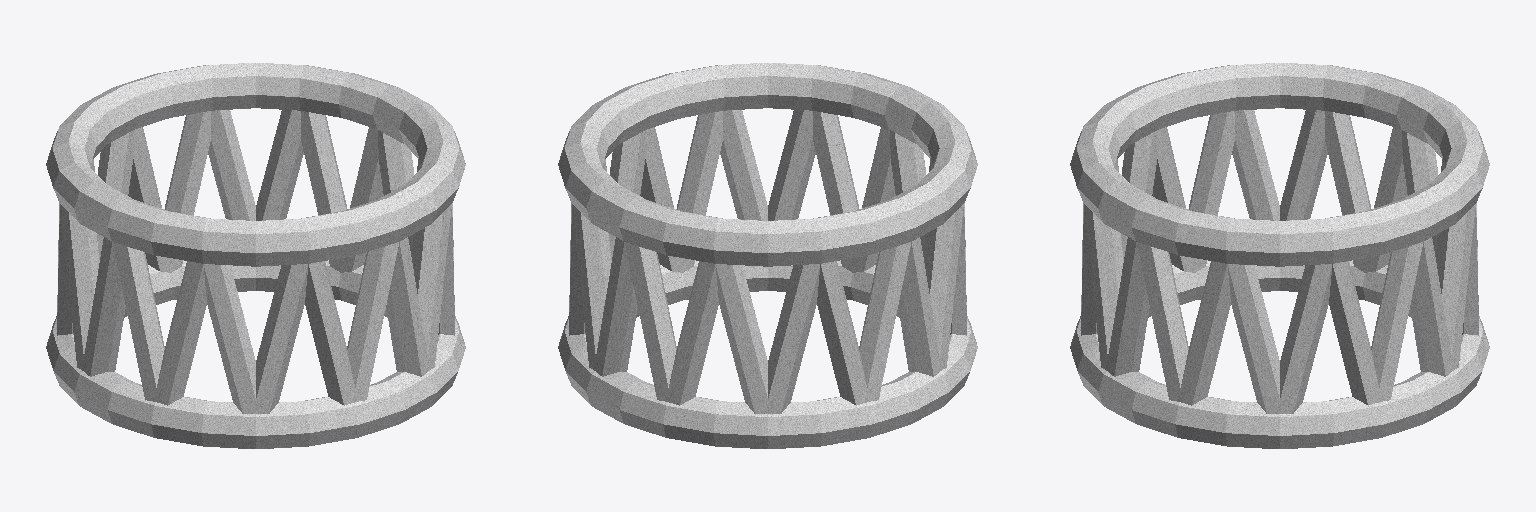
The picture shows the model from 3 angles: view 1: azimuth 30°, elevation 25°; view 2: azimuth 150°, elevation 25°; view 3: azimuth 270°, elevation 25°; orthographic projection.
Parts seen in each view (by area): view 1: S1DecouplerTruss, S1DecouplerRingUp, S1DecouplerRingDown; view 2: S1DecouplerTruss, S1DecouplerRingUp, S1DecouplerRingDown; view 3: S1DecouplerTruss, S1DecouplerRingUp, S1DecouplerRingDown.
Part boxes in pixels (bbox=[...]): S1DecouplerTruss: bbox=[57, 110, 454, 413]; S1DecouplerRingUp: bbox=[46, 63, 465, 266]; S1DecouplerRingDown: bbox=[46, 260, 465, 448]; S1DecouplerTruss: bbox=[569, 110, 966, 413]; S1DecouplerRingUp: bbox=[558, 63, 977, 266]; S1DecouplerRingDown: bbox=[558, 260, 977, 448]; S1DecouplerTruss: bbox=[1081, 110, 1478, 413]; S1DecouplerRingUp: bbox=[1070, 63, 1489, 266]; S1DecouplerRingDown: bbox=[1070, 260, 1489, 448].
Size of the model in its own units: 1.25 by 0.75 by 1.25.
Materials: 2 (1 with a texture image).